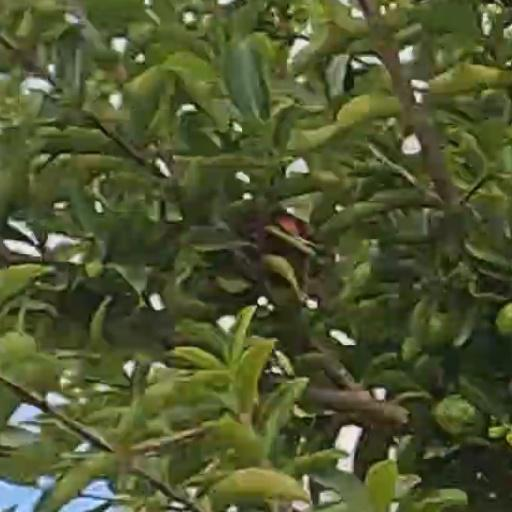acerola_verde: (414, 297, 452, 346), (496, 305, 512, 337)
